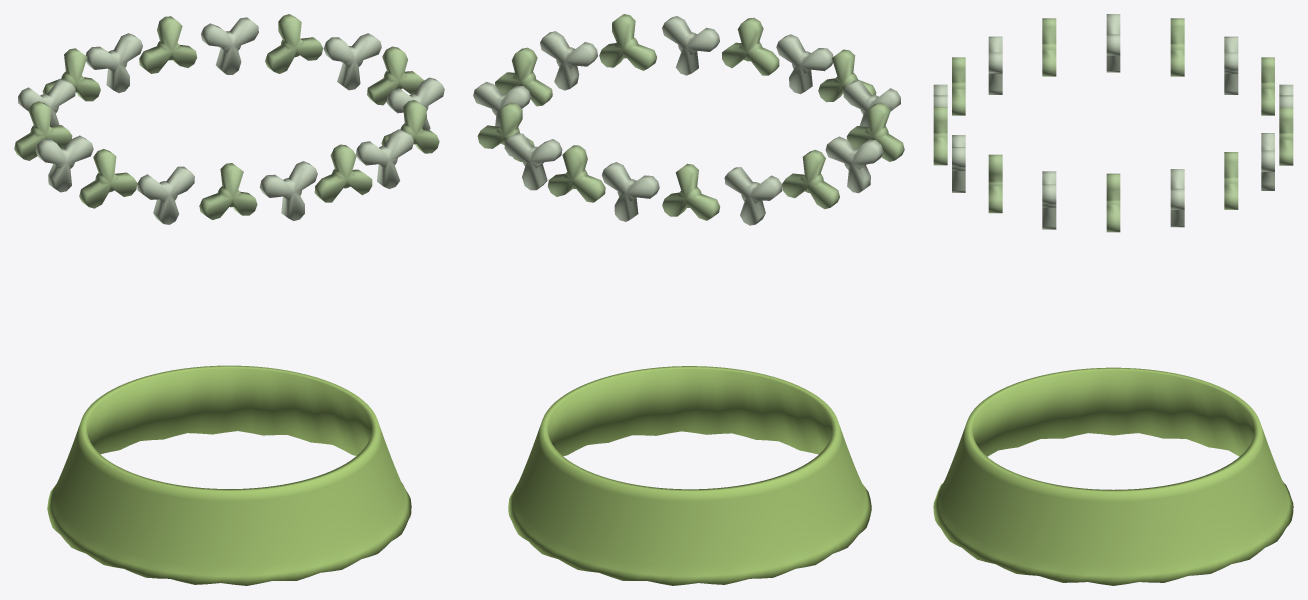
Rendered from island_kurimanju.glb.
The picture shows the model from 3 angles, left to right: view 1: azimuth 30°, elevation 25°; view 2: azimuth 150°, elevation 25°; view 3: azimuth 270°, elevation 25°; orthographic projection.
Visible parts, largest first — view 1: island_kurimanju; view 2: island_kurimanju; view 3: island_kurimanju.
Part boxes in pixels (<box>): island_kurimanju: <box>14,14,444,585</box>; island_kurimanju: <box>473,14,904,585</box>; island_kurimanju: <box>933,14,1293,585</box>.
Bounding box in the file's own units: 0.7445 × 0.7811 × 0.6143.
